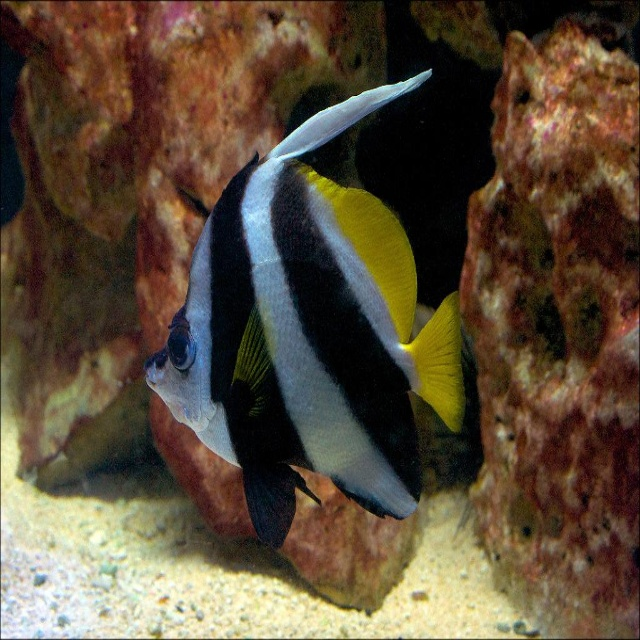Fish: (141, 66, 466, 551)
